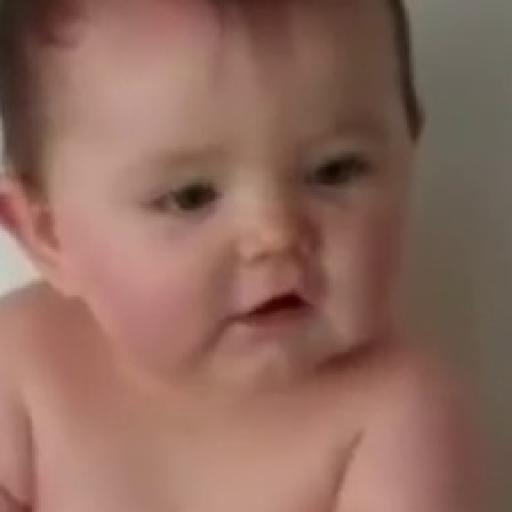Autism: (33, 12, 432, 411)
